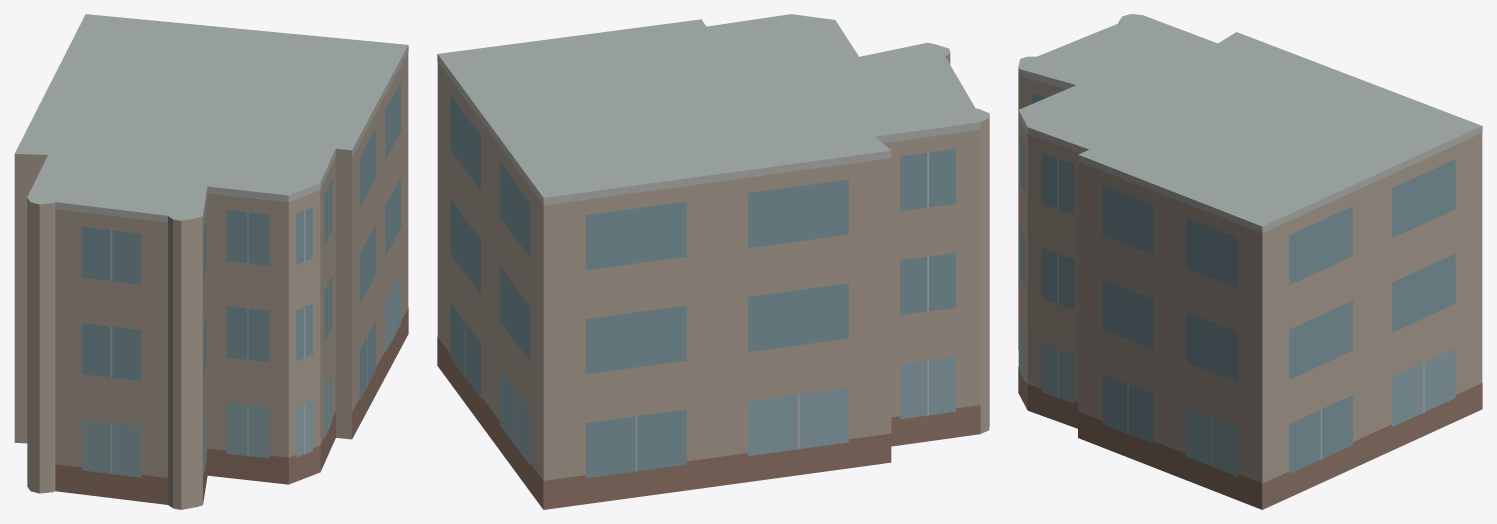
The model's file is survey-upis-32549994.glb.
3 views of the same model, side by side, from view 1: azimuth 30°, elevation 25°; view 2: azimuth 150°, elevation 25°; view 3: azimuth 270°, elevation 25° (orthographic). The views are drawn at different scales.
Visible parts, largest first — view 1: survey-upis-32549994.tmp; view 2: survey-upis-32549994.tmp; view 3: survey-upis-32549994.tmp.
Part boxes in pixels (x1,y1,x2,y2): survey-upis-32549994.tmp: (14,14,408,509); survey-upis-32549994.tmp: (437,14,989,509); survey-upis-32549994.tmp: (1018,14,1482,509).
Bounding box in the file's own units: 16.26 × 10.1 × 15.
